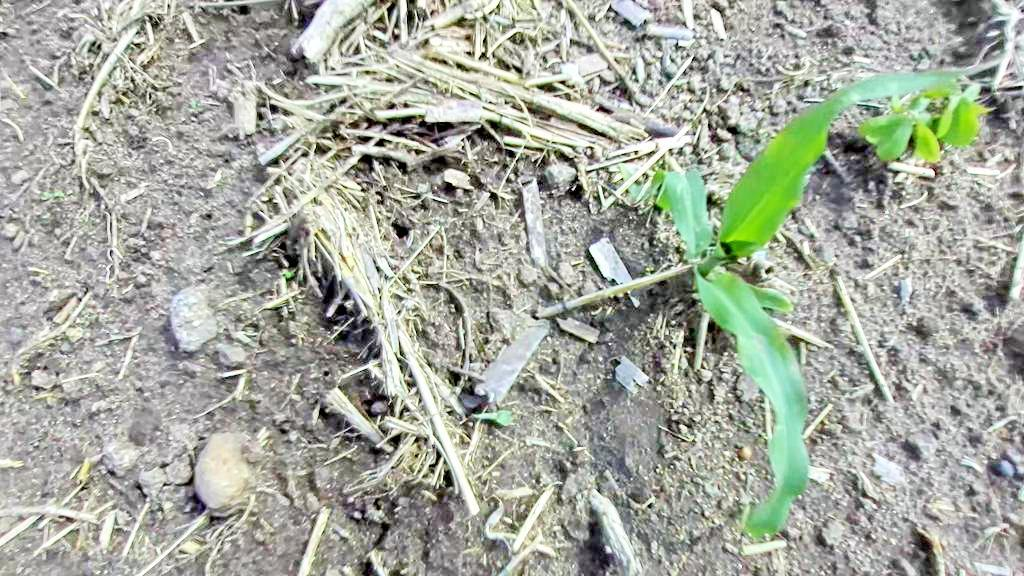BroWeed: (851, 87, 943, 177), (924, 72, 1001, 155), (472, 410, 515, 425), (182, 97, 202, 118), (39, 186, 64, 202), (280, 266, 293, 280), (644, 265, 654, 272)
